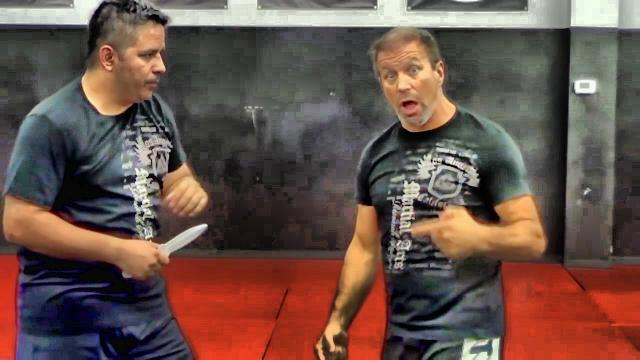knife: (120, 218, 210, 282)
